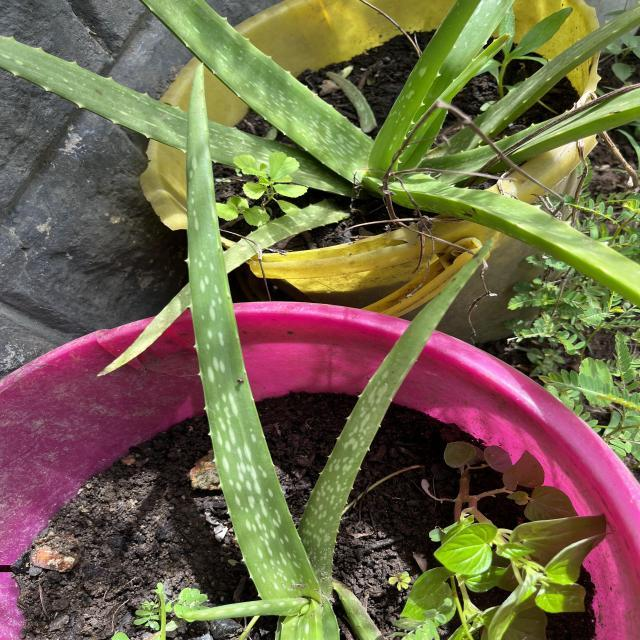Aloe vera: (182, 59, 328, 603)
